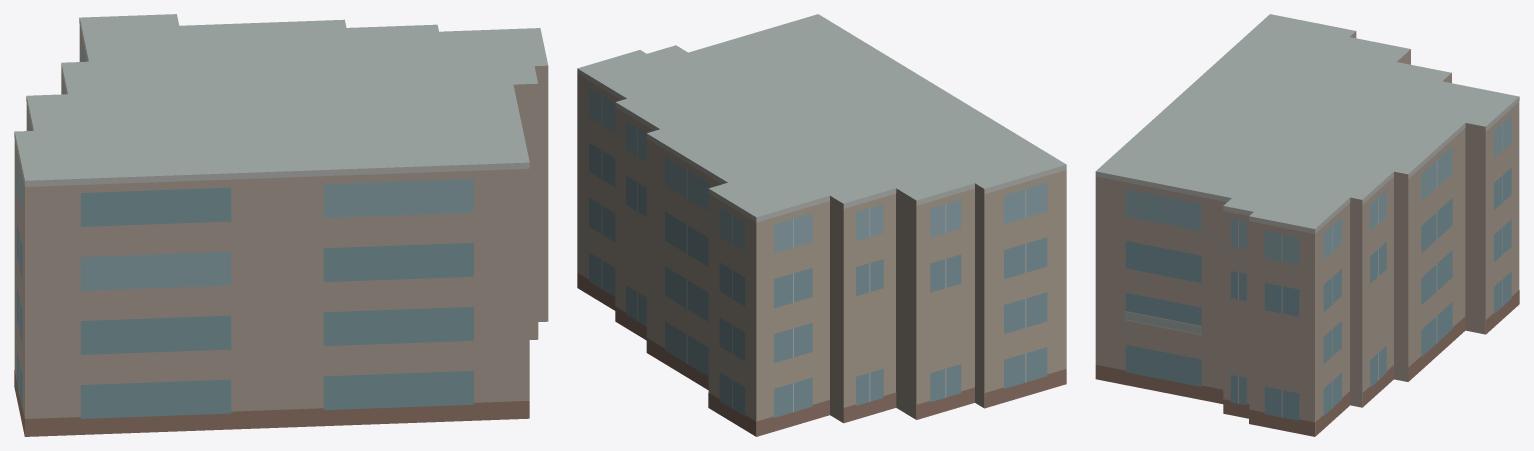
File: survey-upis-32581719.glb
3 renders of one model, left to right at view 1: azimuth 30°, elevation 25°; view 2: azimuth 150°, elevation 25°; view 3: azimuth 270°, elevation 25°, orthographic. The views are drawn at different scales.
Visible parts, largest first — view 1: survey-upis-32581719.tmp; view 2: survey-upis-32581719.tmp; view 3: survey-upis-32581719.tmp.
Part boxes in pixels (x1=…): survey-upis-32581719.tmp: x1=14, y1=14, x2=548, y2=436; survey-upis-32581719.tmp: x1=577, y1=14, x2=1066, y2=436; survey-upis-32581719.tmp: x1=1095, y1=14, x2=1519, y2=436.
Bounding box in the file's own units: 22.65 × 10.2 × 18.87.
